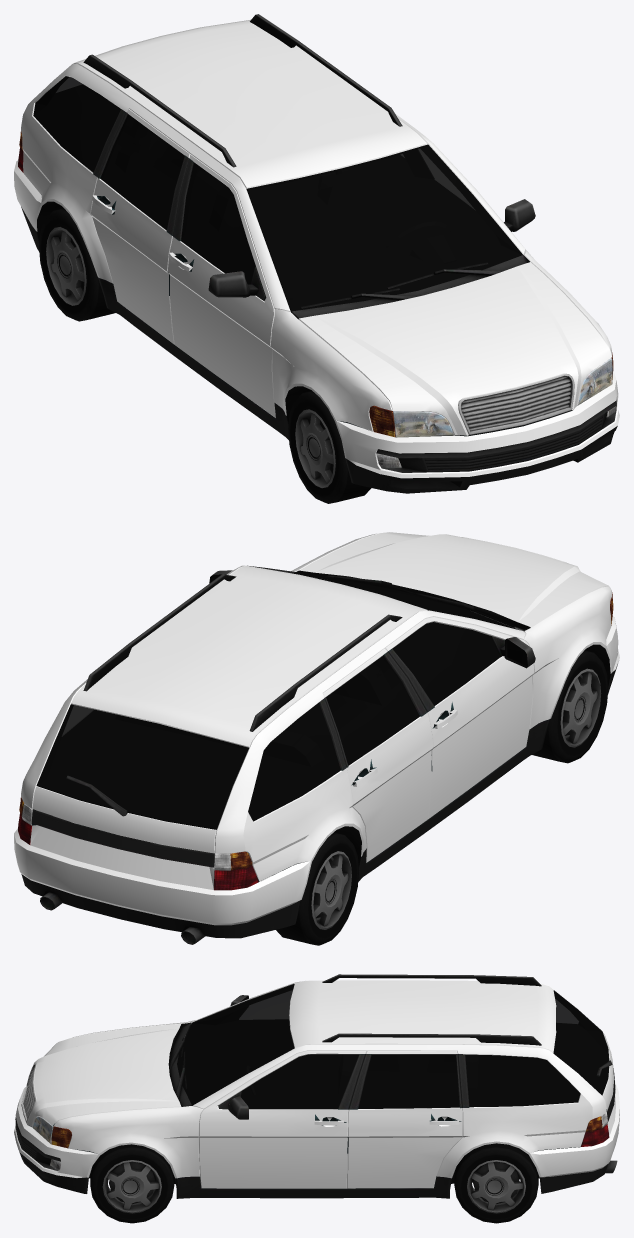
The model's file is wagon-1.glb.
The picture shows the model from 3 angles, top to bottom: view 1: azimuth 30°, elevation 25°; view 2: azimuth 150°, elevation 25°; view 3: azimuth 270°, elevation 25°; orthographic projection. The views are drawn at different scales.
Visible parts, largest first — view 1: body, wheel_fr, wheel_rr; view 2: body, wheel_rr, wheel_fr; view 3: body, wheel_rl, wheel_fl.
Part boxes in pixels (<box>): body: <box>14,14,619,493</box>; wheel_fr: <box>288,391,371,503</box>; wheel_rr: <box>39,208,115,321</box>; body: <box>14,532,619,944</box>; wheel_rr: <box>276,832,359,945</box>; wheel_fr: <box>532,650,608,763</box>; body: <box>14,974,619,1198</box>; wheel_rl: <box>454,1143,538,1223</box>; wheel_fl: <box>90,1144,174,1223</box>.
Size of the model in its own units: 1.95 by 1.38 by 4.38.
Materials: 5 (3 with a texture image).
